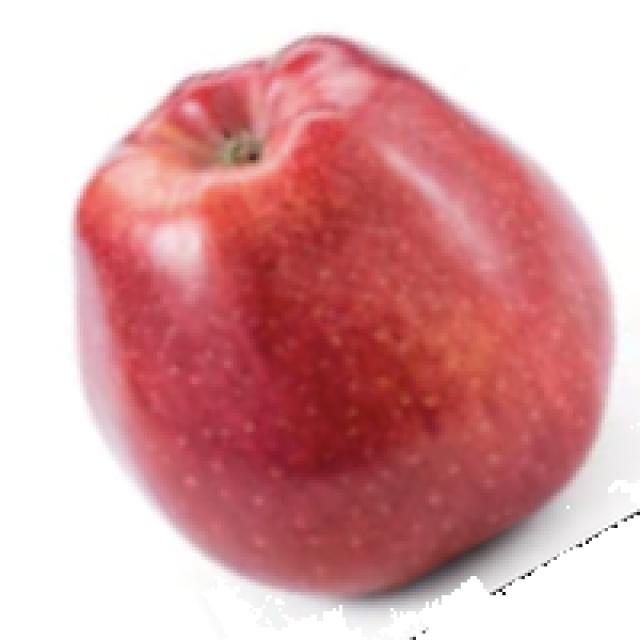apple: (64, 22, 637, 636)
